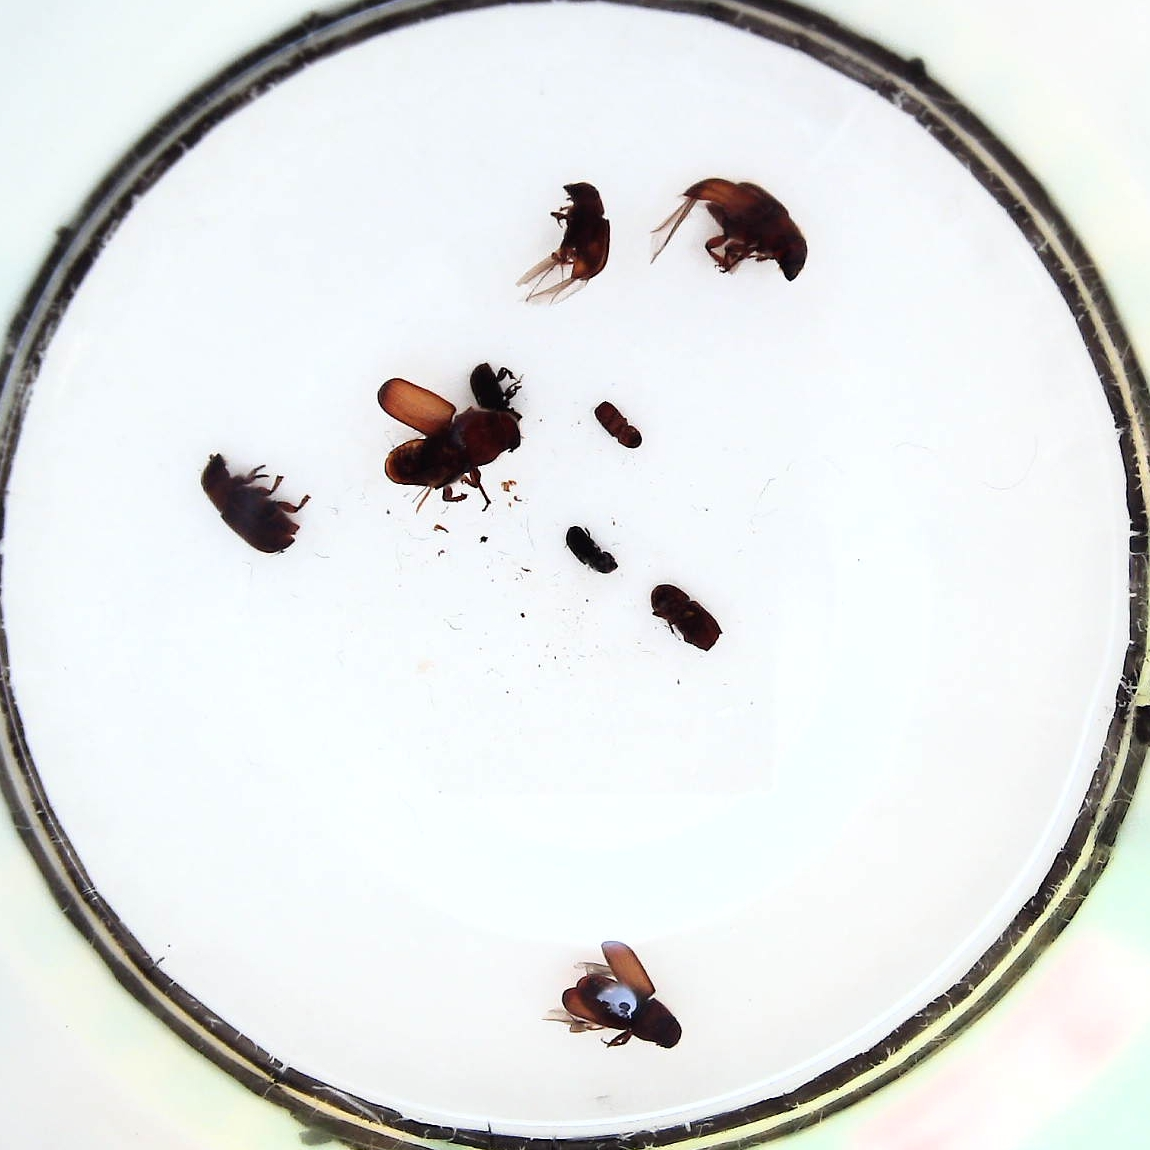Leconte: (375, 386, 519, 507), (554, 938, 683, 1053), (687, 176, 813, 286), (198, 451, 308, 558), (542, 179, 611, 286)
Linnaeus: (647, 579, 723, 653)
acuminatus: (593, 397, 647, 450)
coleoptera: (567, 522, 621, 576)
